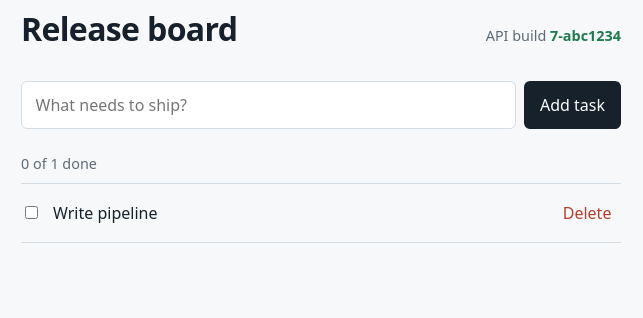
Test case: App › adds a task
Expected: the text "Write pipeline" is shown, [53,201,157,225]
Type "Run canary" into the field named "New task" at x=268, y=105, box [21,81,516,129]
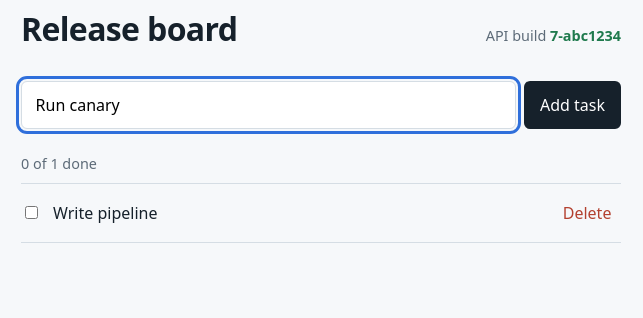
Click the button "Add task" at x=572, y=105, box [524,81,621,129]
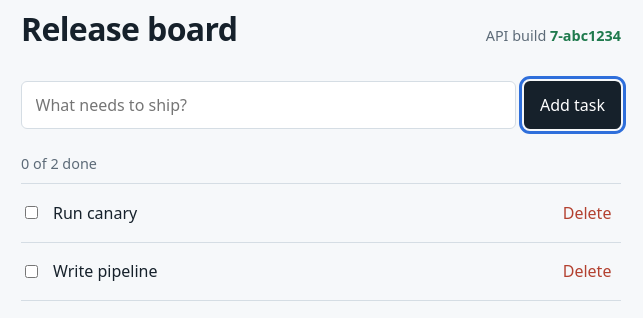
Expected: the text "Run canary" is shown, [53,201,137,225]
Expected: the field named "New task" is empty, [21,81,516,129]
